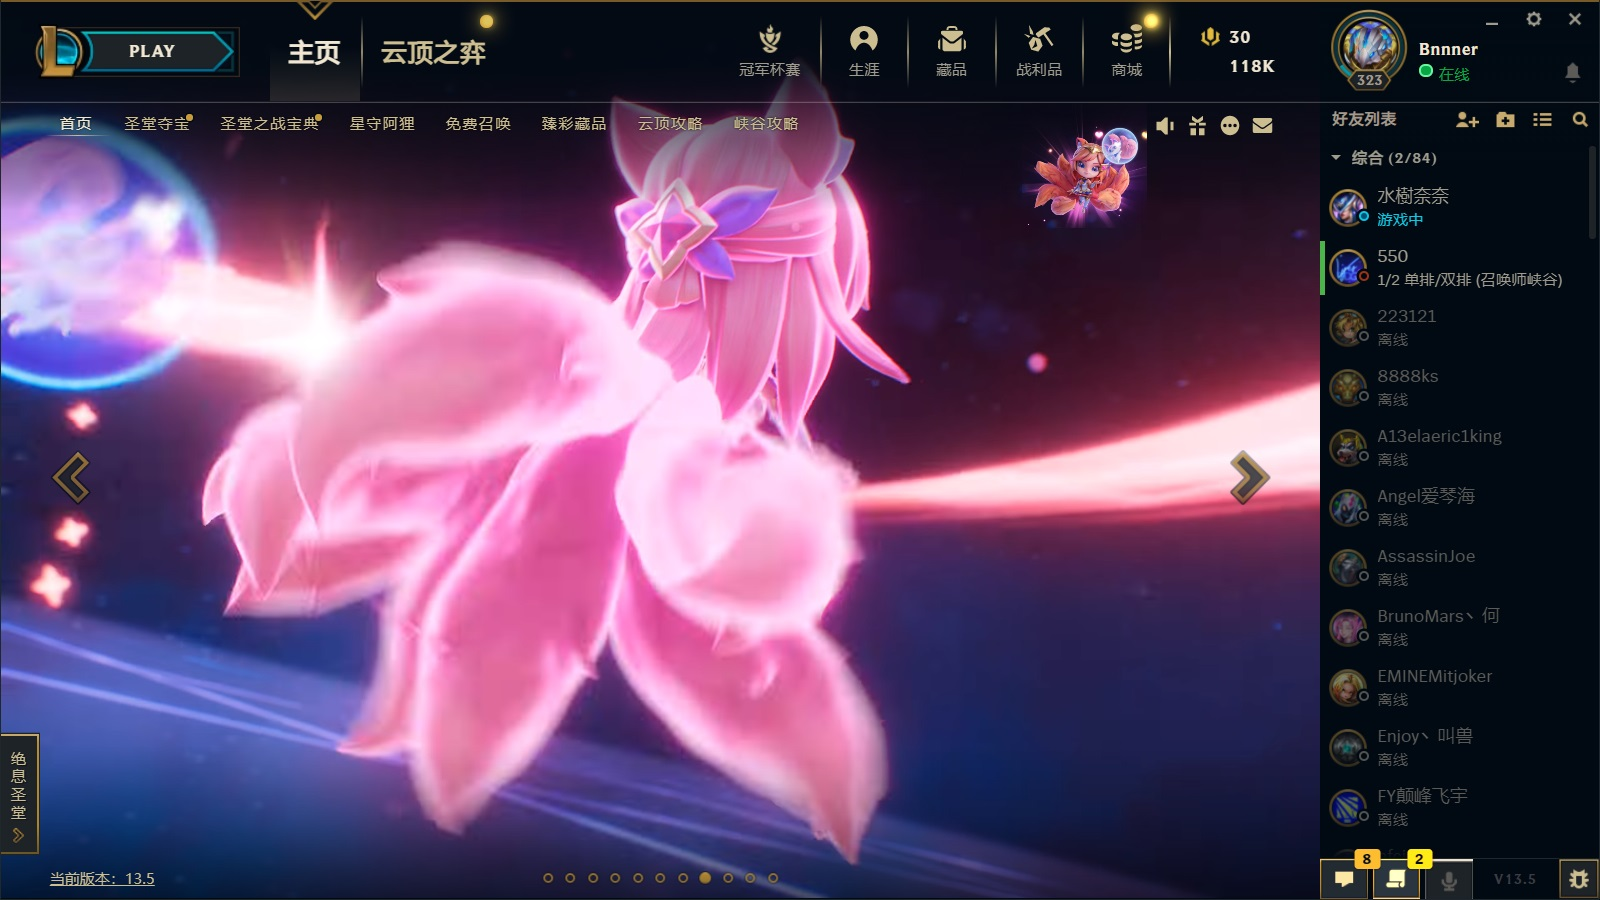PLAY: (85, 27, 236, 74)
